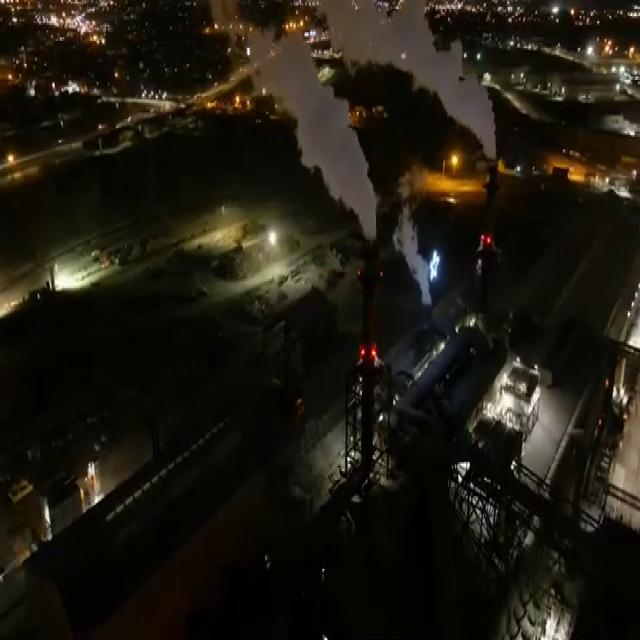smoke: (234, 36, 376, 240), (379, 0, 497, 155), (397, 208, 475, 322)
